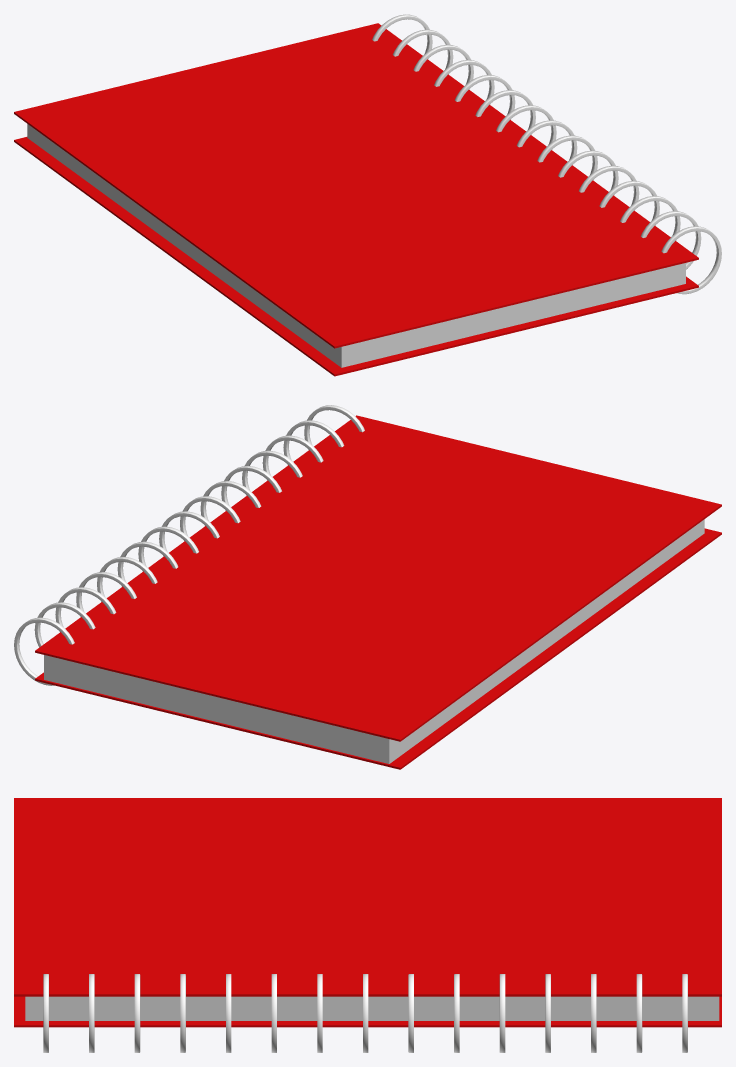
File: notebook.glb
3 renders of one model, top to bottom at view 1: azimuth 30°, elevation 25°; view 2: azimuth 150°, elevation 25°; view 3: azimuth 270°, elevation 25°, orthographic. The views are drawn at different scales.
Visible parts, largest first — view 1: Cylinder; view 2: Cylinder; view 3: Cylinder.
Boxes of the visible parts, x1,y1,x2,y2 form: Cylinder: (14,14,721,376); Cylinder: (14,405,721,769); Cylinder: (14,798,721,1052).
Bounding box in the file's own units: 3.31 × 0.5108 × 4.59.
